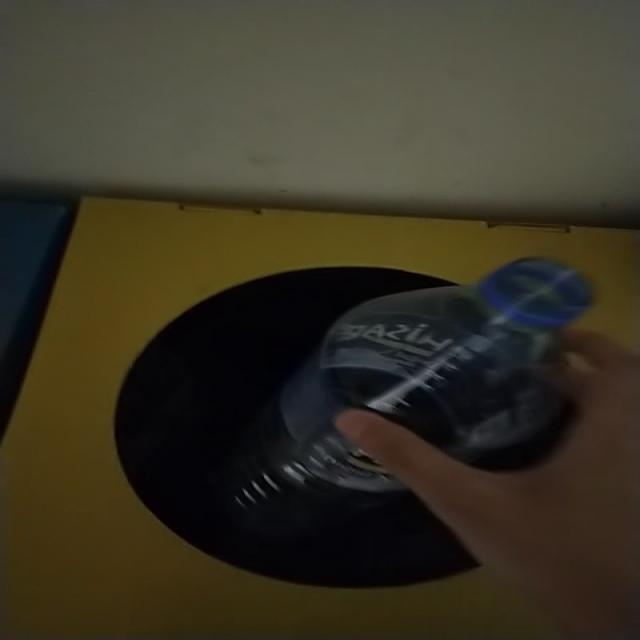Plastic: (229, 259, 593, 526)
